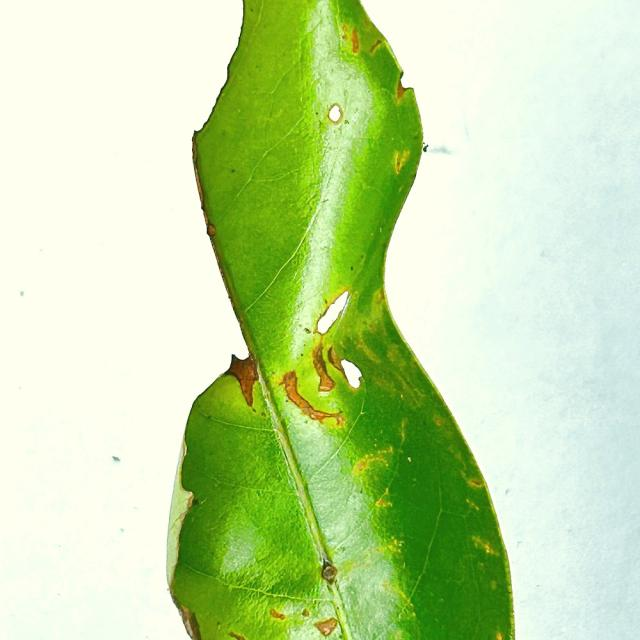Deficiency Leaf: (128, 210, 247, 629), (128, 0, 244, 139), (312, 341, 361, 396), (316, 291, 350, 341), (108, 425, 134, 481), (116, 504, 142, 552)
Lychee: (167, 0, 514, 639)
